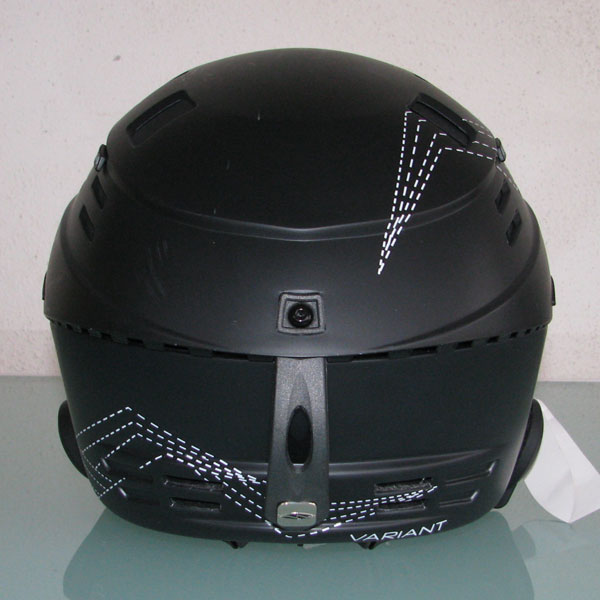helmet: (50, 77, 537, 515)
